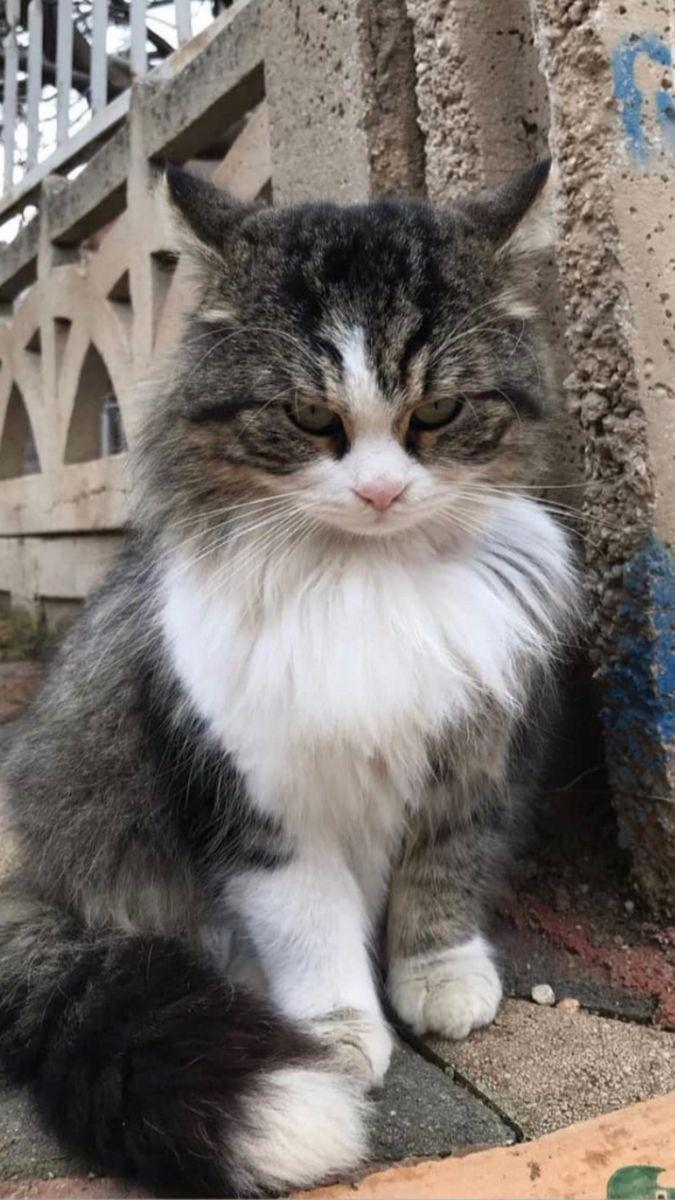kedo: (3, 150, 572, 1186)
